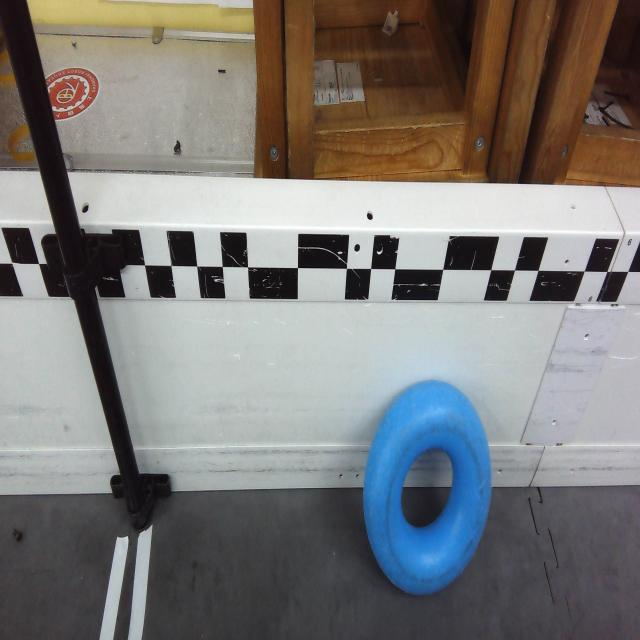Blue-Ring: (365, 379, 491, 598)
